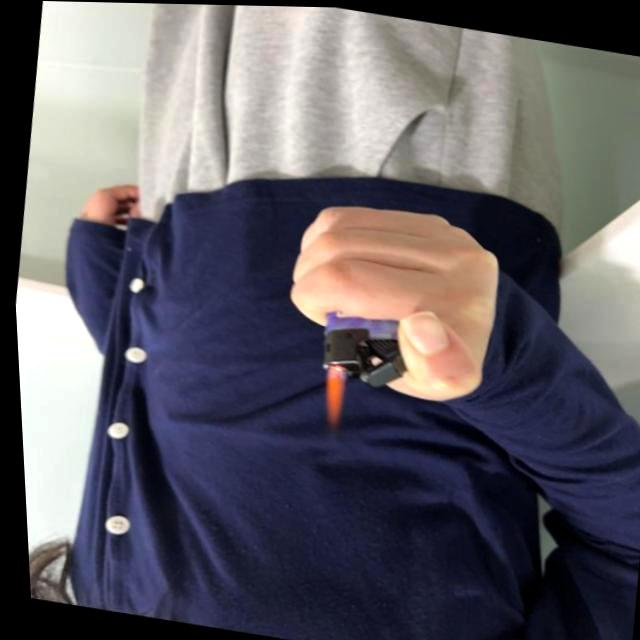fire: (312, 361, 346, 427)
